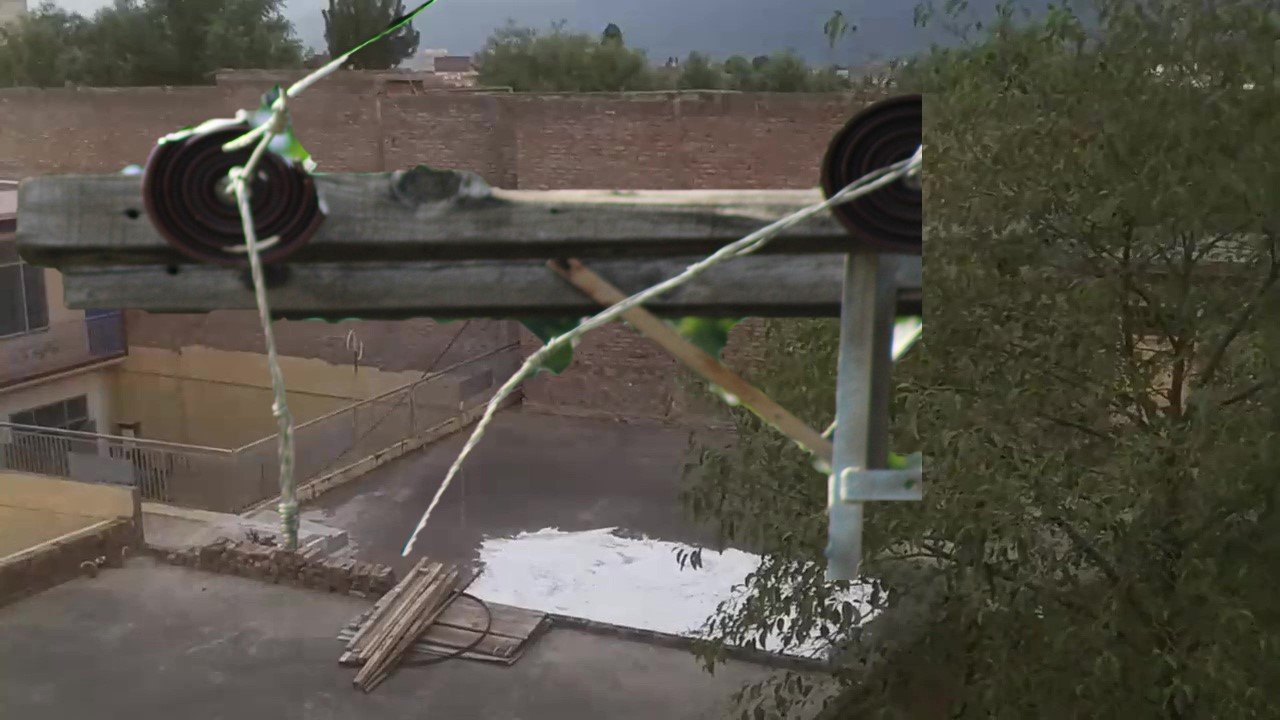defect_disc: (141, 110, 331, 268)
